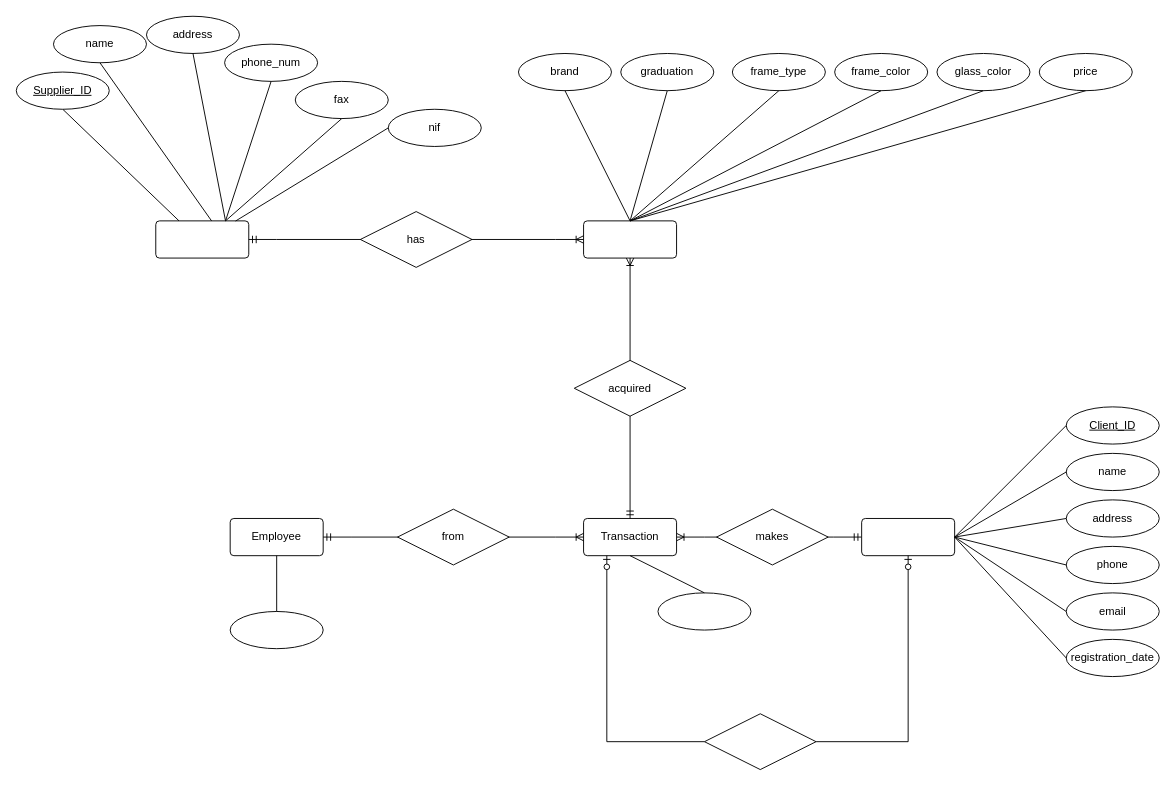
The diagram is 1176 pixels wide and 786 high, and some of its shapes have lost their labels. Here are the shapes that lost their labels. From the top down, the centre of each, then its label:
[202,239]: Supplier
[630,239]: Set_Of_Glasses
[908,537]: Client
[276,630]: Employee_ID
[704,611]: Transaction_ID
[760,741]: was_recommended
